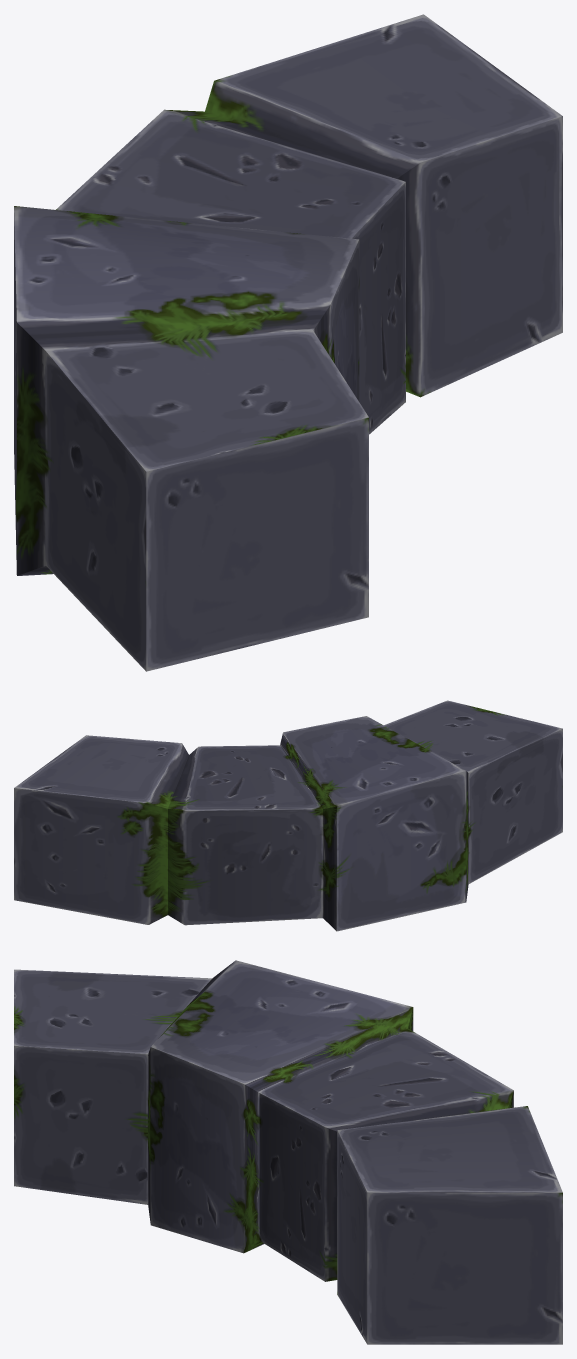
File: MOD_WallCover_01_E_concave_2.fbx
The picture shows the model from 3 angles, top to bottom: view 1: azimuth 30°, elevation 25°; view 2: azimuth 150°, elevation 25°; view 3: azimuth 270°, elevation 25°; orthographic projection. The views are drawn at different scales.
Parts seen in each view (by area): view 1: MOD_WallCover_01_E_concave_2; view 2: MOD_WallCover_01_E_concave_2; view 3: MOD_WallCover_01_E_concave_2.
Part boxes in pixels (bbox=[...]): MOD_WallCover_01_E_concave_2: bbox=[14, 14, 562, 671]; MOD_WallCover_01_E_concave_2: bbox=[14, 700, 562, 931]; MOD_WallCover_01_E_concave_2: bbox=[14, 960, 562, 1344].
Size of what is drawn, in the model's own units: 210 by 76.24 by 213.
